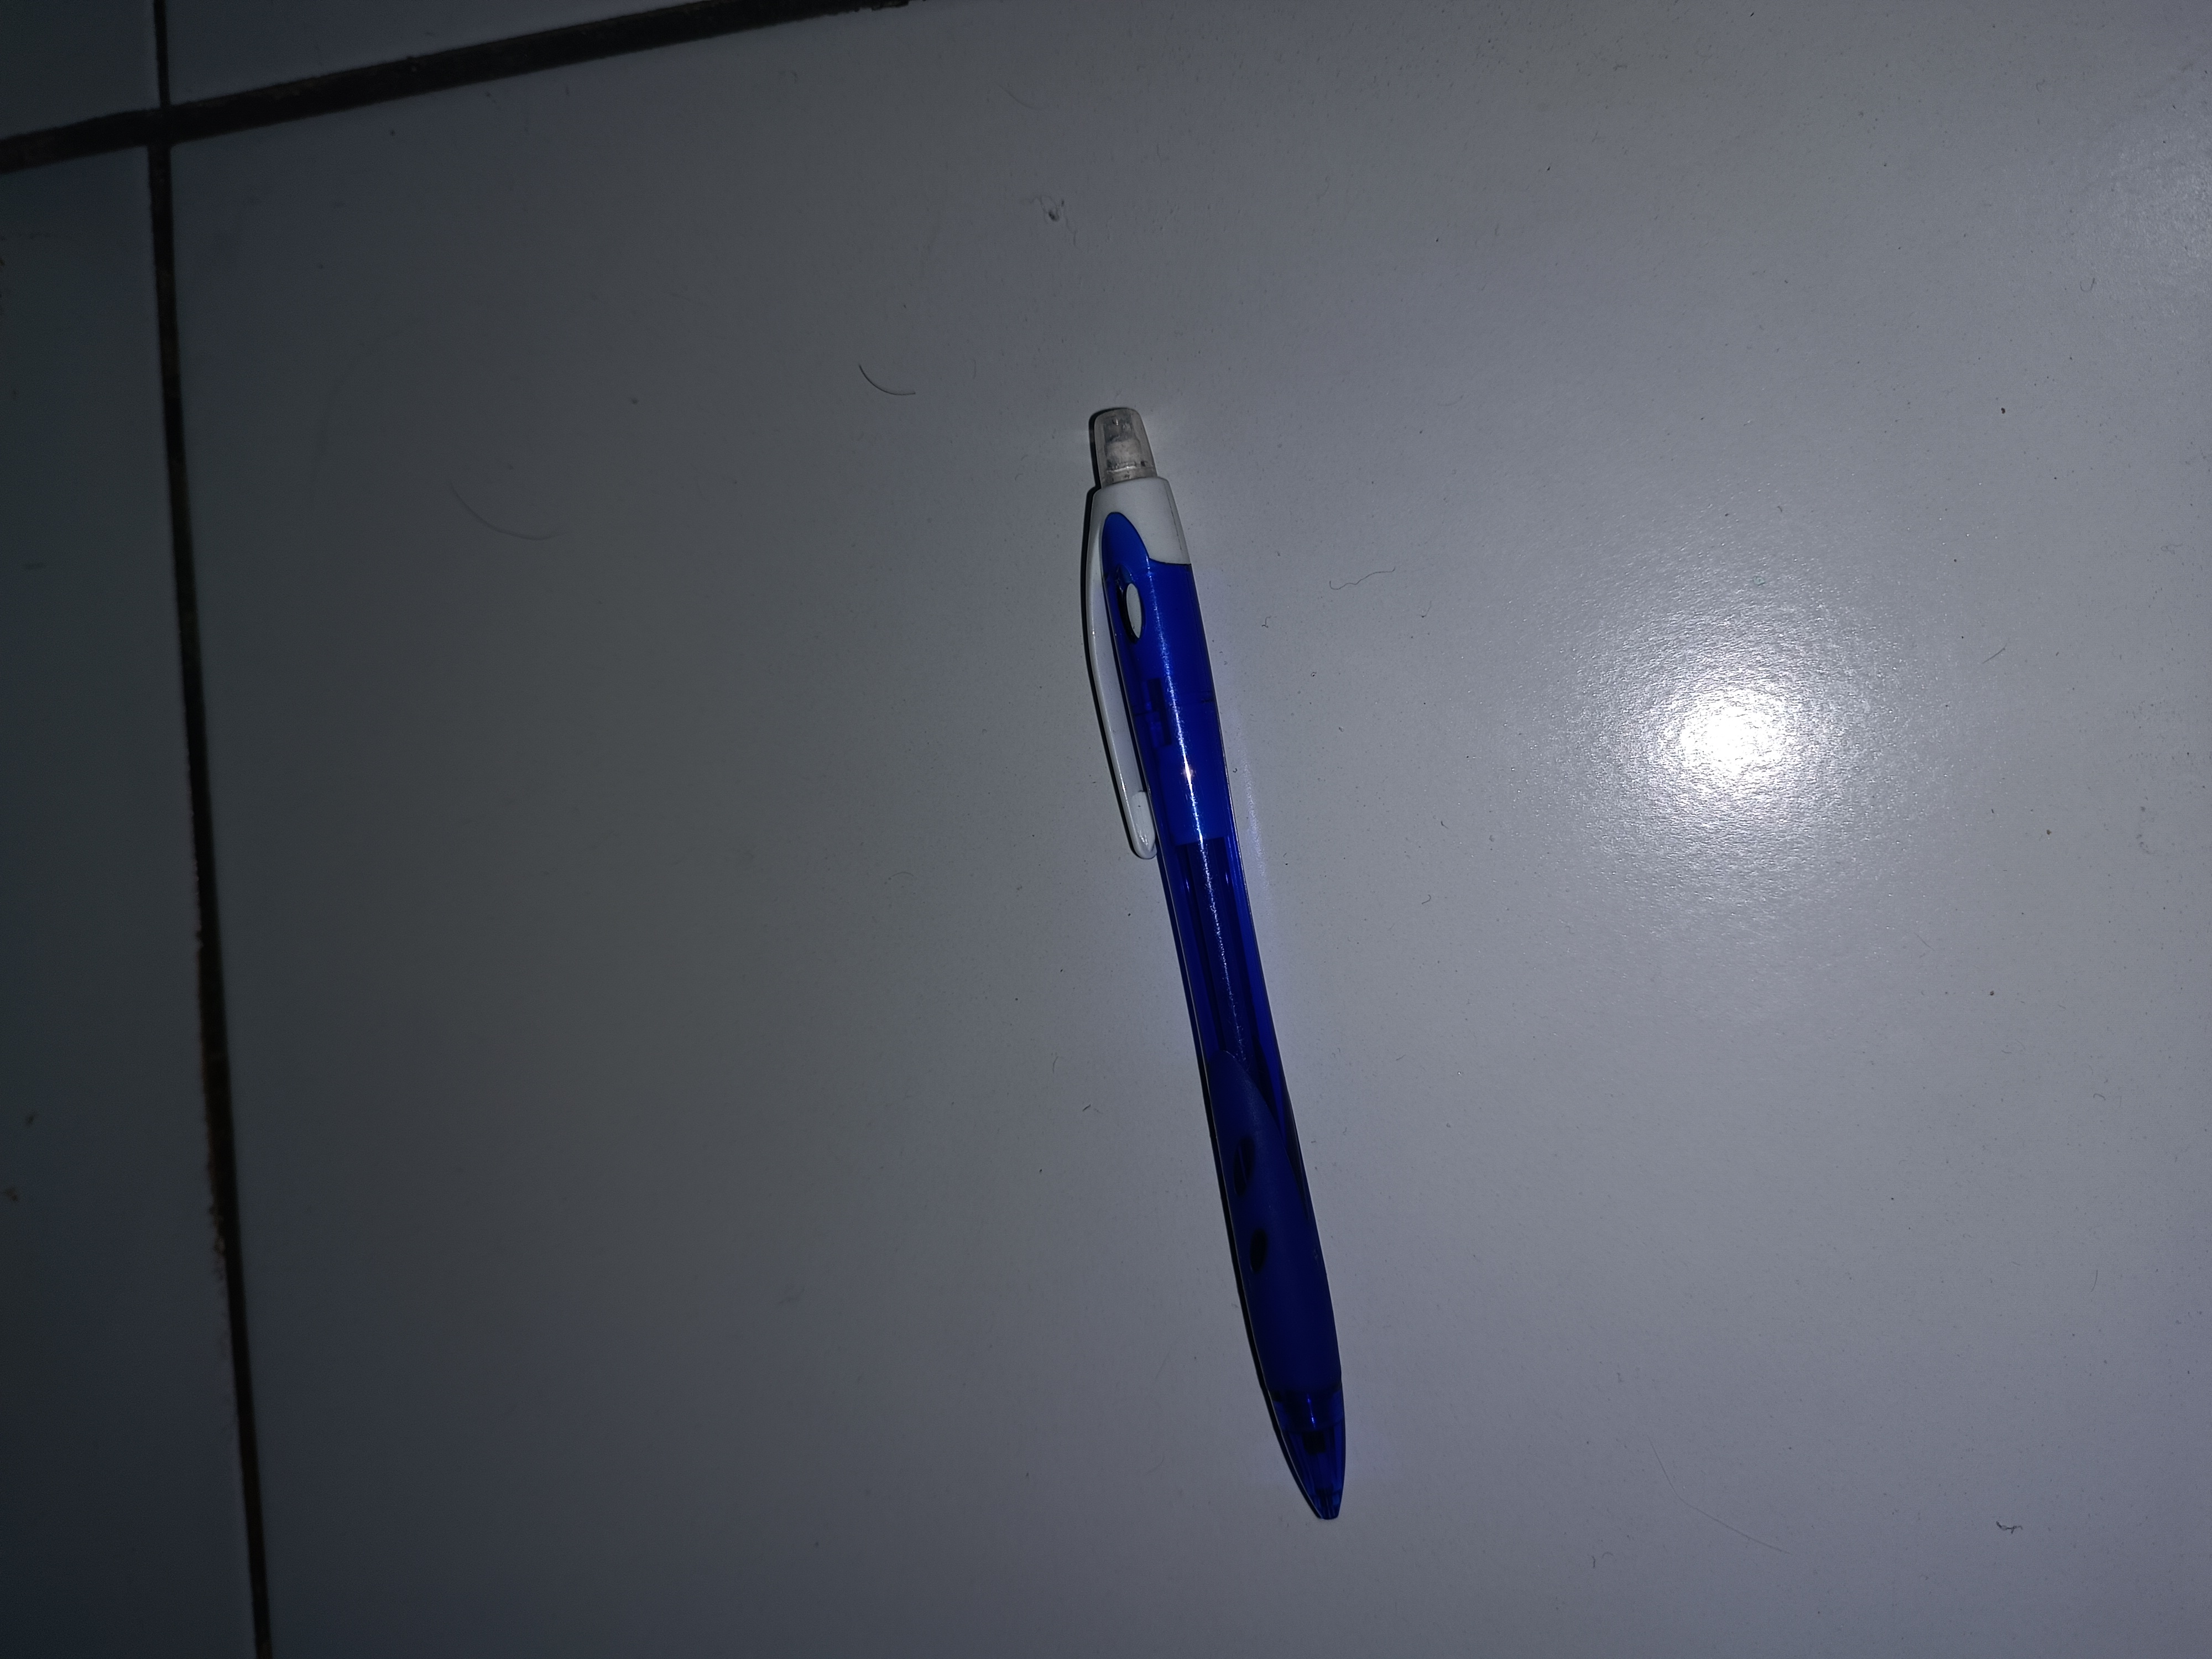Pen: (974, 385, 1460, 1554)
